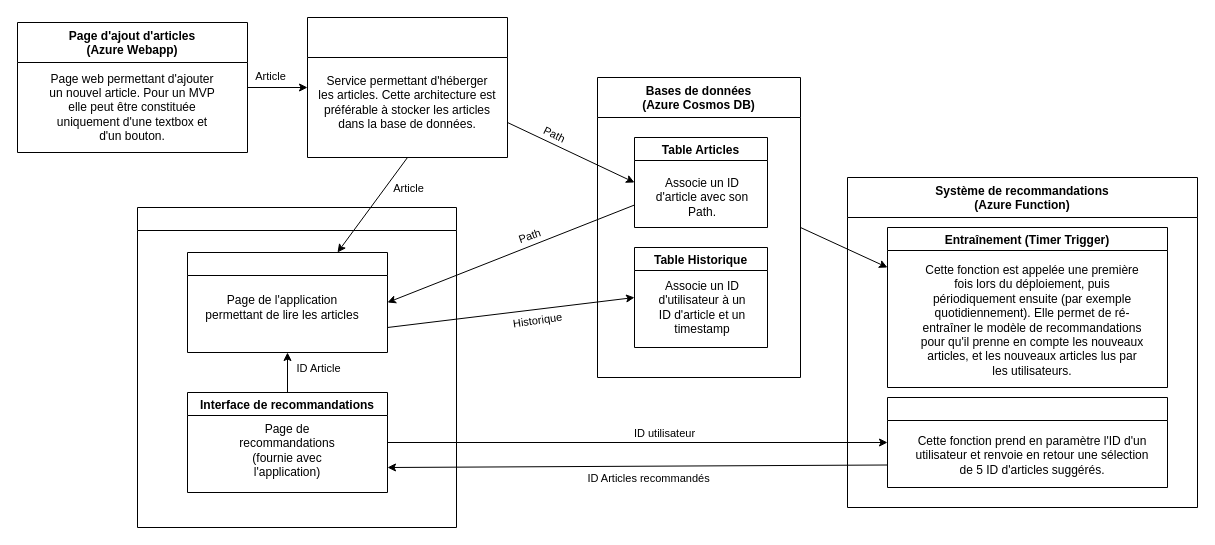
Some shapes in this 1215 by 545 pixel diagram are drawn without their labels. Each missing label, with the box of its shape:
Application Mobile: (136, 206, 456, 528)
Interface de lecture: (186, 252, 388, 352)
Prédiction (Http Trigger): (886, 396, 1168, 488)
Serveur de données statiques (Azure Storage): (306, 16, 508, 158)
